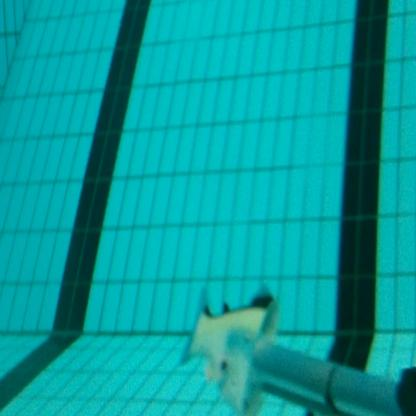tail: (175, 282, 285, 415)
